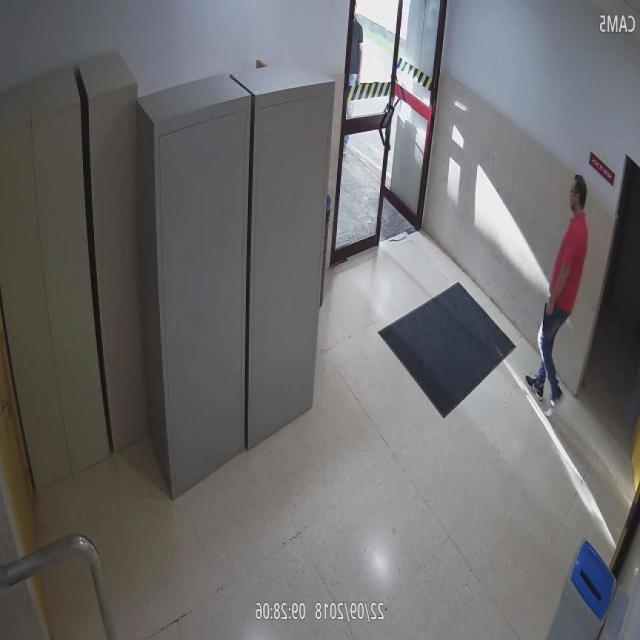pistol: (540, 298, 557, 336)
